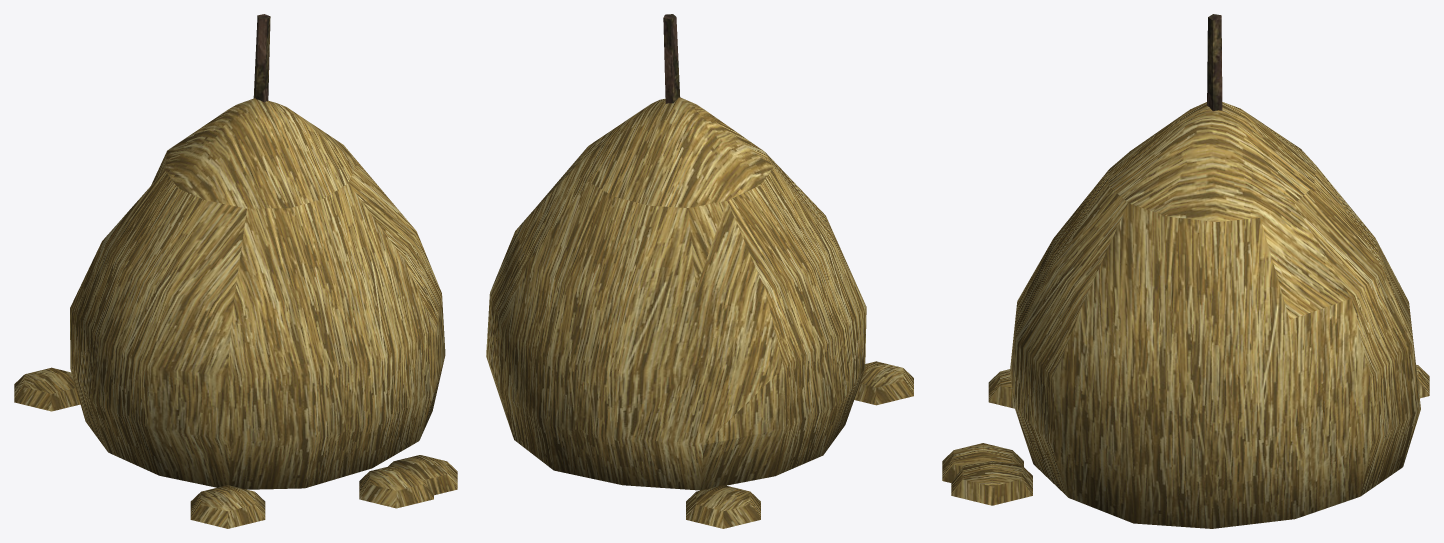
File: camp_haystack.glb
3 views of the same model, side by side, from view 1: azimuth 30°, elevation 25°; view 2: azimuth 150°, elevation 25°; view 3: azimuth 270°, elevation 25° (orthographic). The views are drawn at different scales.
Visible parts, largest first — view 1: camp_haystack; view 2: camp_haystack; view 3: camp_haystack.
Boxes of the visible parts, x1,y1,x2,y2 form: camp_haystack: (14,14,457,528); camp_haystack: (486,14,913,528); camp_haystack: (942,14,1429,528).
Bounding box in the file's own units: 2.18 × 2.57 × 2.58.
Materials: 2 (2 with a texture image).
